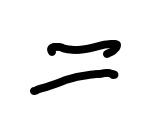eqv: (30, 40, 120, 95)
